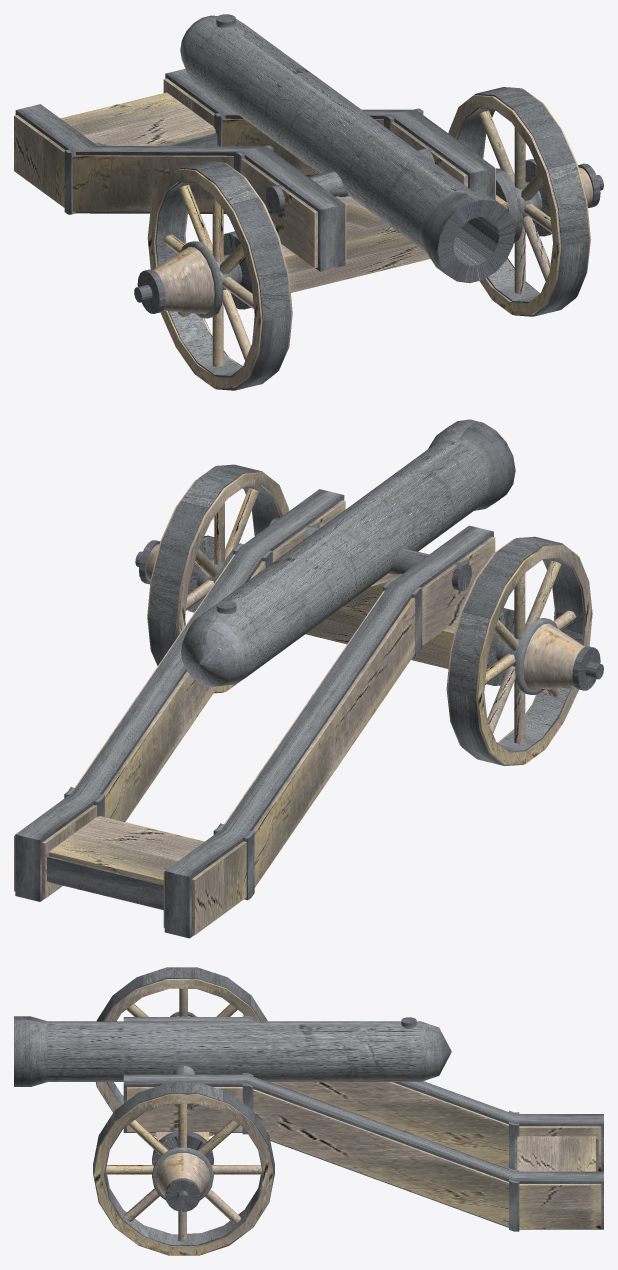
The model's file is Enviroment_Cannon.FBX.
3 renders of one model, top to bottom at view 1: azimuth 30°, elevation 25°; view 2: azimuth 150°, elevation 25°; view 3: azimuth 270°, elevation 25°, orthographic. The views are drawn at different scales.
Parts seen in each view (by area): view 1: Cylinder018, Box012, Cylinder015, Cylinder003, Box013, Box016, Cylinder010, Box003, Cylinder004, Box015, Box001, Mesh002 (+10 smaller); view 2: Cylinder018, Box012, Box013, Box003, Cylinder015, Box001, Cylinder003, Box016, Cylinder010, Box017, Mesh002, Cylinder004 (+9 smaller); view 3: Cylinder018, Box001, Box012, Box003, Cylinder004, Cylinder003, Box013, Box016, Cylinder015, Cylinder001, Cylinder010, Mesh001 (+5 smaller).
Part boxes in pixels (left/top/right/bottom): Cylinder018: left=180, top=15, right=515, bottom=283; Box012: left=14, top=115, right=346, bottom=267; Cylinder015: left=155, top=161, right=290, bottom=390; Cylinder003: left=456, top=87, right=589, bottom=316; Box013: left=15, top=104, right=345, bottom=271; Box016: left=60, top=92, right=215, bottom=145; Cylinder010: left=147, top=163, right=292, bottom=388; Box003: left=165, top=68, right=494, bottom=199; Cylinder004: left=448, top=89, right=590, bottom=315; Box015: left=281, top=195, right=508, bottom=292; Box001: left=163, top=78, right=495, bottom=199; Mesh002: left=153, top=247, right=214, bottom=314; Cylinder018: left=181, top=419, right=515, bottom=686; Box012: left=163, top=536, right=495, bottom=935; Box013: left=164, top=525, right=493, bottom=938; Box003: left=15, top=489, right=344, bottom=901; Cylinder015: left=448, top=536, right=584, bottom=765; Box001: left=14, top=500, right=345, bottom=898; Cylinder003: left=148, top=464, right=281, bottom=693; Box016: left=48, top=816, right=204, bottom=910; Cylinder010: left=446, top=539, right=592, bottom=764; Box017: left=47, top=856, right=163, bottom=909; Mesh002: left=523, top=623, right=584, bottom=690; Cylinder004: left=147, top=466, right=289, bottom=691; Cylinder018: left=14, top=1016, right=451, bottom=1086; Box001: left=127, top=1087, right=601, bottom=1228; Box012: left=270, top=1082, right=601, bottom=1171; Box003: left=123, top=1074, right=603, bottom=1229; Cylinder004: left=94, top=1094, right=273, bottom=1255; Cylinder003: left=93, top=1082, right=274, bottom=1255; Box013: left=123, top=1017, right=603, bottom=1171; Box016: left=517, top=1136, right=595, bottom=1171; Cylinder015: left=96, top=967, right=267, bottom=1136; Cylinder001: left=152, top=1130, right=213, bottom=1211; Cylinder010: left=96, top=979, right=259, bottom=1136; Mesh001: left=155, top=1153, right=210, bottom=1196.
Size of the model in its own units: 5.52 by 2.55 by 7.75.
2 materials, 2 textured.
